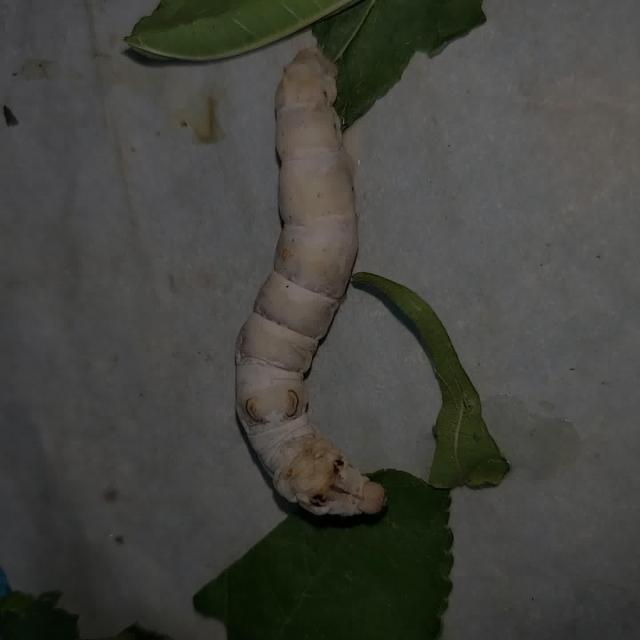Grasserie: (211, 39, 409, 524)
